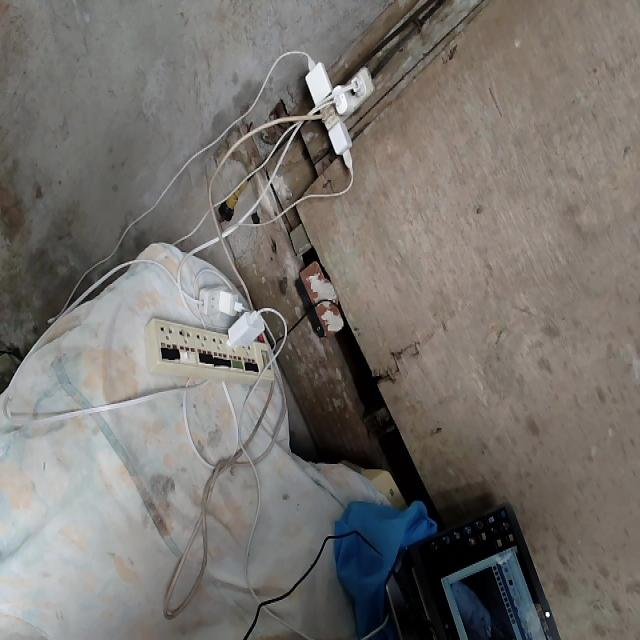-: (299, 56, 373, 169)
